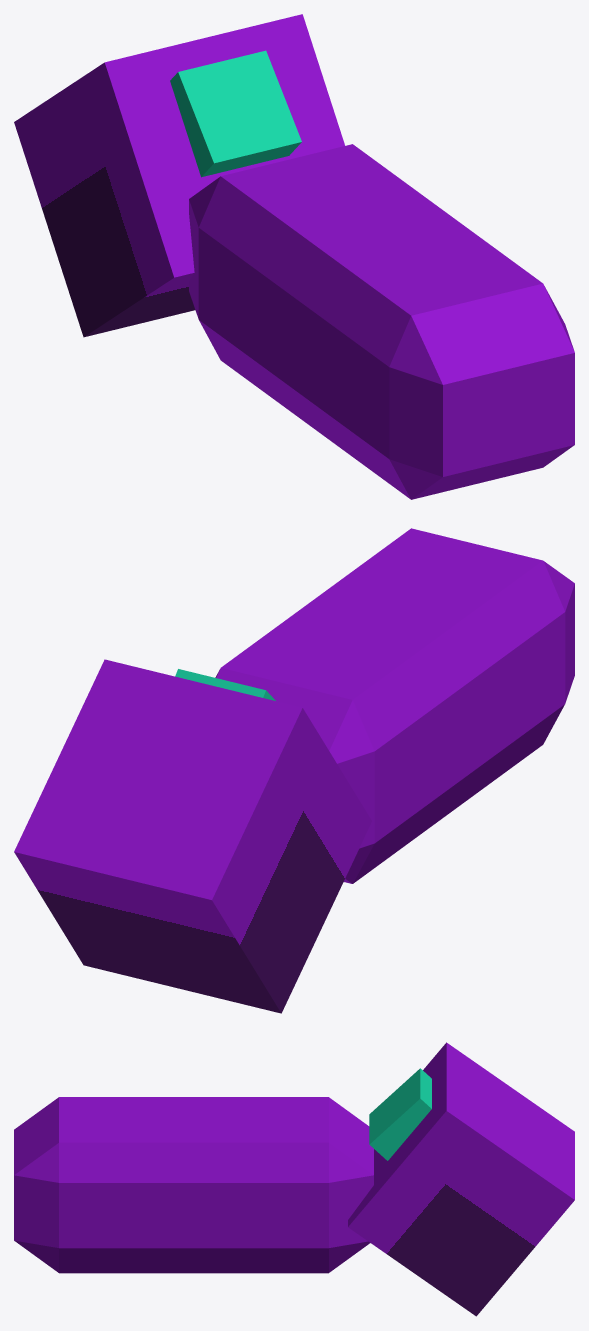
Rendered from PurpleArm.gltf.
3 views of the same model, one above another, from view 1: azimuth 30°, elevation 25°; view 2: azimuth 150°, elevation 25°; view 3: azimuth 270°, elevation 25° (orthographic). The views are drawn at different scales.
Parts seen in each view (by area): view 1: beveled_cuboid, cuboid, cube; view 2: cuboid, beveled_cuboid, cube; view 3: beveled_cuboid, cuboid, cube.
Boxes of the visible parts, x1,y1,x2,y2 form: beveled_cuboid: (189, 144, 574, 499); cuboid: (14, 14, 344, 337); cube: (170, 50, 301, 177); cuboid: (14, 659, 371, 1013); beveled_cuboid: (215, 528, 574, 883); cube: (175, 669, 275, 700); beveled_cuboid: (14, 1097, 373, 1273); cuboid: (348, 1042, 574, 1316); cube: (369, 1068, 431, 1160).
Bounding box in the file's own units: 0.2812 × 0.3943 × 0.9744.
Materials: 2 (2 with a texture image).
